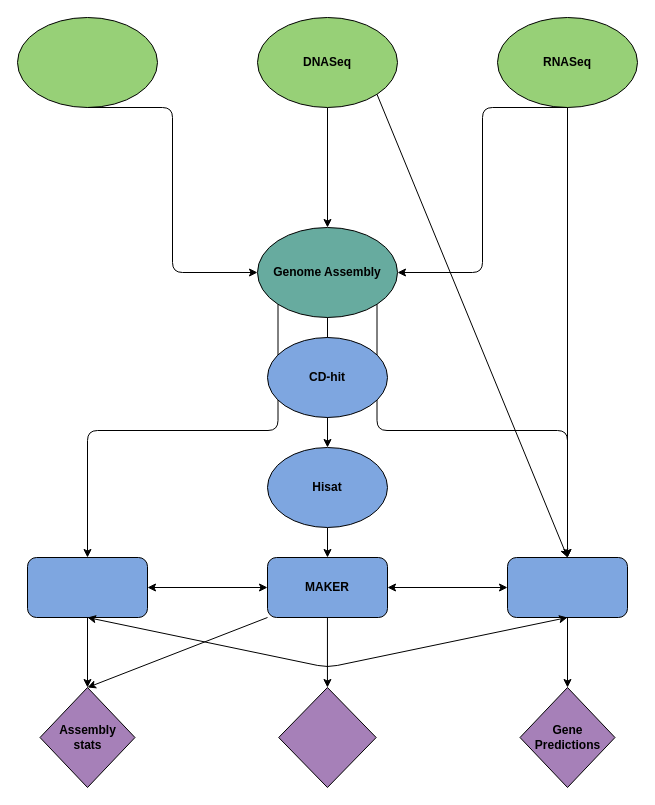
Some shapes in this 655 by 805 pixel diagram are drawn without their labels. The shapes that lost their labels are listed below. From the top down, each one's centre as x and y in pixels, then its label:
At pixel 87 62: "Nanopore DNA".
At pixel 87 587: "BUSCO".
At pixel 567 587: "BRAKER2".
At pixel 327 737: "Gene Annotations".
